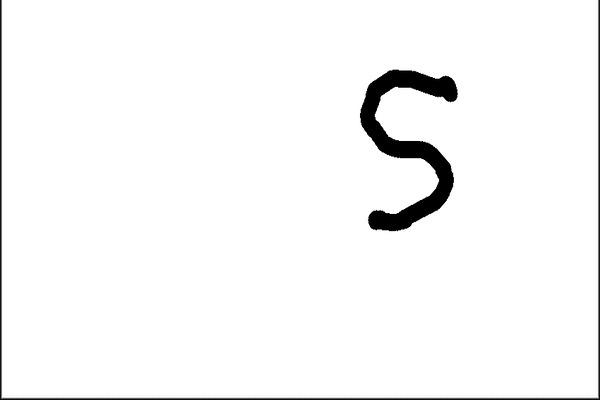S: (352, 63, 461, 239)
